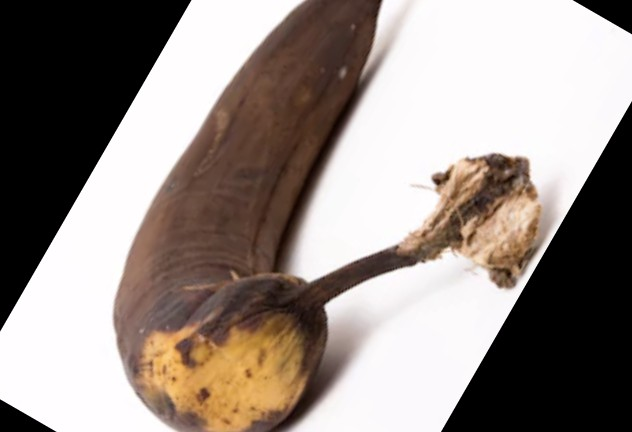rotten_banana: (112, 1, 542, 432)
